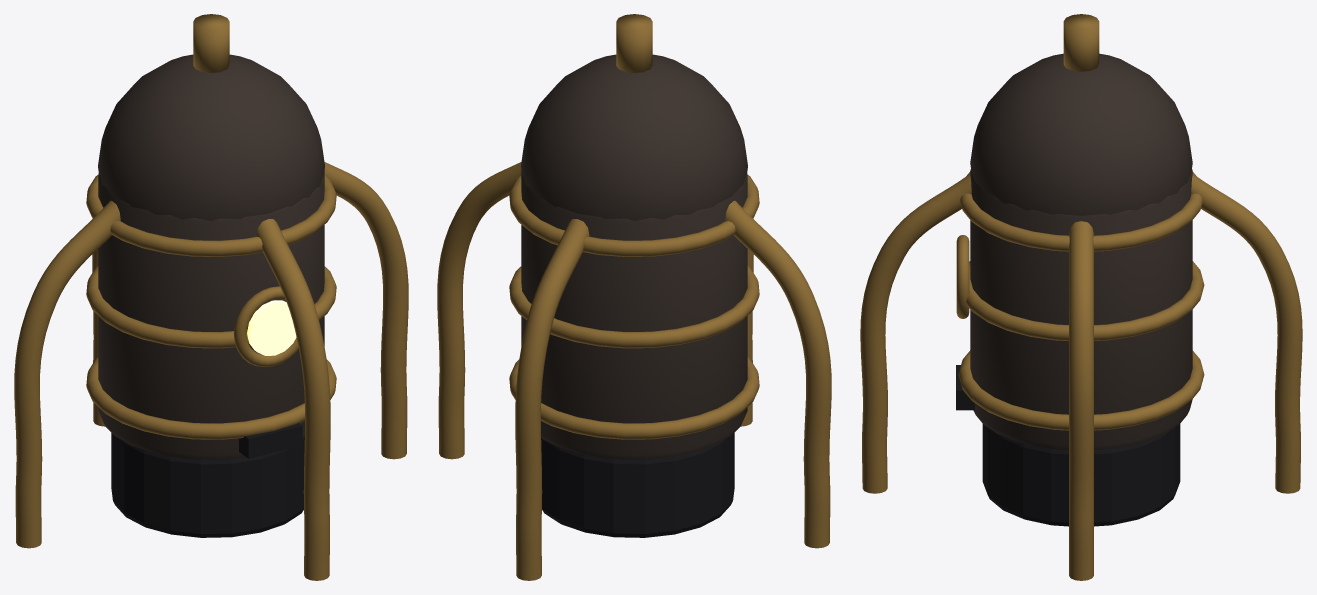
Rendered from regulator.glb.
The picture shows the model from 3 angles, left to right: view 1: azimuth 30°, elevation 25°; view 2: azimuth 150°, elevation 25°; view 3: azimuth 270°, elevation 25°; orthographic projection. The views are drawn at different scales.
Visible parts, largest first — view 1: Cylinder.001, Sphere, Cylinder, pipe.003, pipe.002, pipe, Torus.002, Torus, Torus.001, Cylinder.003, Cylinder.002, Torus.003 (+2 smaller); view 2: Cylinder.001, Sphere, Cylinder, pipe.001, pipe.002, pipe, Torus.001, Torus, Torus.002, Cylinder.002, pipe.003; view 3: Cylinder.001, Sphere, Cylinder, pipe, pipe.001, pipe.003, Torus, Torus.001, Torus.002, Cylinder.002, Torus.003.
Boxes of the visible parts, left/top/right/bottom form: Cylinder.001: left=98, top=171, right=324, bottom=459; Sphere: left=98, top=54, right=324, bottom=220; Cylinder: left=111, top=433, right=304, bottom=537; pipe.003: left=256, top=219, right=330, bottom=580; pipe.002: left=14, top=200, right=120, bottom=548; pipe: left=324, top=162, right=408, bottom=459; Torus.002: left=86, top=174, right=336, bottom=256; Torus: left=86, top=357, right=336, bottom=439; Torus.001: left=86, top=266, right=336, bottom=348; Cylinder.003: left=247, top=300, right=296, bottom=355; Cylinder.002: left=193, top=14, right=229, bottom=72; Torus.003: left=234, top=286, right=298, bottom=367; Cylinder.001: left=521, top=171, right=747, bottom=459; Sphere: left=521, top=54, right=747, bottom=220; Cylinder: left=541, top=433, right=734, bottom=537; pipe.001: left=515, top=219, right=589, bottom=580; pipe.002: left=725, top=200, right=831, bottom=548; pipe: left=437, top=162, right=521, bottom=459; Torus.001: left=509, top=266, right=759, bottom=348; Torus: left=509, top=357, right=759, bottom=439; Torus.002: left=509, top=174, right=759, bottom=256; Cylinder.002: left=616, top=14, right=652, bottom=72; pipe.003: left=740, top=249, right=753, bottom=426; Cylinder.001: left=970, top=169, right=1192, bottom=449; Sphere: left=970, top=53, right=1192, bottom=215; Cylinder: left=982, top=424, right=1180, bottom=526; pipe: left=1069, top=221, right=1093, bottom=580; pipe.001: left=1191, top=174, right=1302, bottom=493; pipe.003: left=860, top=174, right=971, bottom=493; Torus: left=958, top=350, right=1204, bottom=430; Torus.001: left=966, top=261, right=1204, bottom=340; Torus.002: left=960, top=171, right=1202, bottom=251; Cylinder.002: left=1063, top=14, right=1099, bottom=71; Torus.003: left=956, top=235, right=969, bottom=318.
Bounding box in the file's own units: 2.46 × 2.87 × 2.46.
